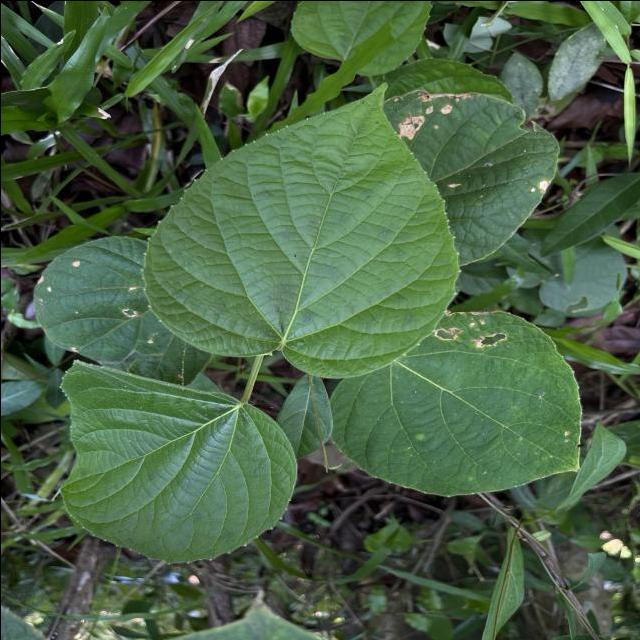Clerodendrum infortunatum: (140, 79, 464, 383), (58, 356, 299, 566), (328, 307, 583, 499)
